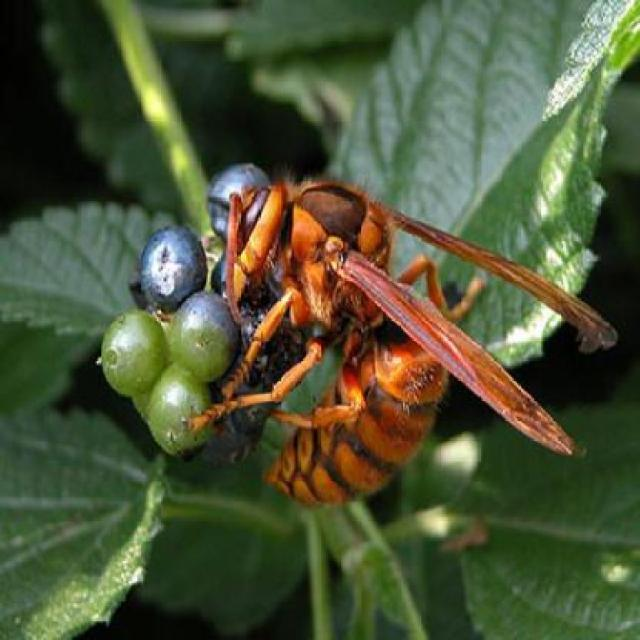Wasp: (222, 150, 611, 516)
